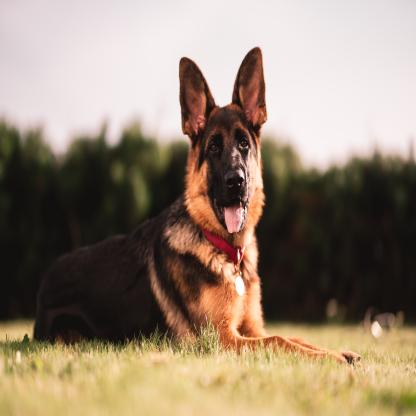dog: (29, 38, 357, 361)
